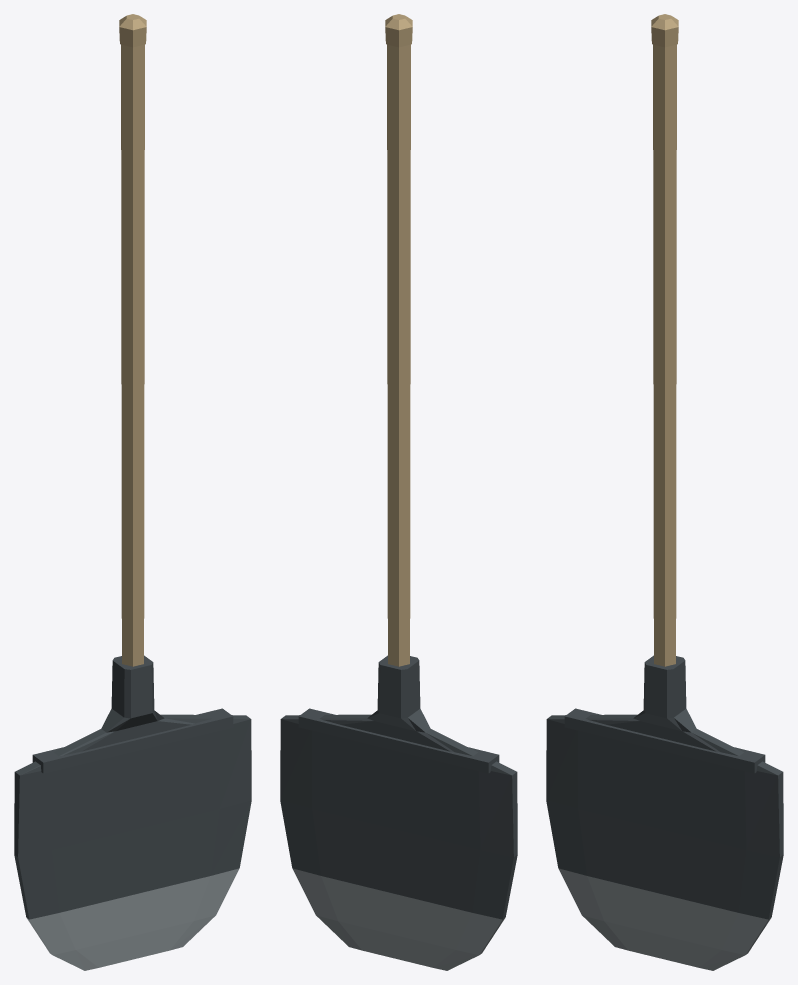
File: shovel-997c4d.glb
3 views of the same model, side by side, from view 1: azimuth 30°, elevation 25°; view 2: azimuth 150°, elevation 25°; view 3: azimuth 330°, elevation 25° (orthographic).
Parts seen in each view (by area): view 1: shovel-mesh; view 2: shovel-mesh; view 3: shovel-mesh.
Boxes of the visible parts, x1,y1,x2,y2 form: shovel-mesh: [14, 14, 251, 970]; shovel-mesh: [280, 14, 517, 970]; shovel-mesh: [546, 14, 783, 970].
Bounding box in the file's own units: 0.224 × 0.862 × 0.029.
